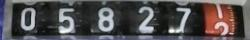digits: (136, 6, 156, 32), (57, 8, 76, 32), (174, 7, 191, 33), (97, 7, 114, 31), (19, 7, 36, 30), (213, 2, 225, 19)
